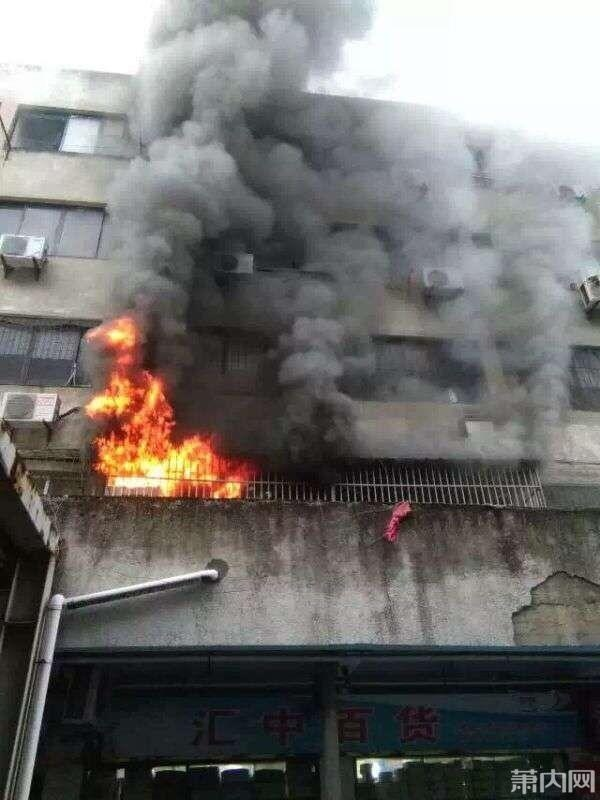fire: (83, 319, 249, 498)
